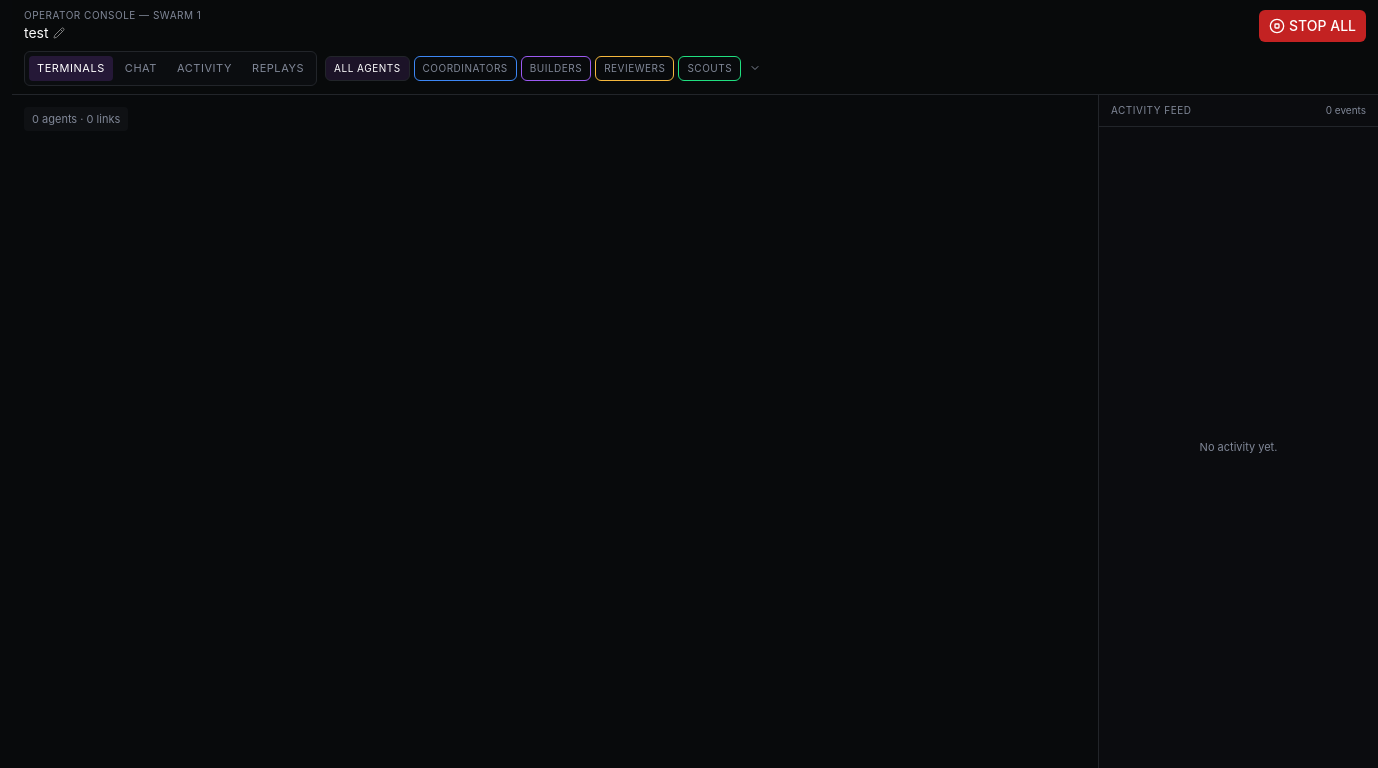
OperatorConsole — Stage-4 UX: ErrorBanner on RPC rejection › renders ErrorBanner after a mocked RPC rejection during mission rename
This screenshot has width=1378, height=768.
Click the button "test" at (44,33), box [24,23,65,43]
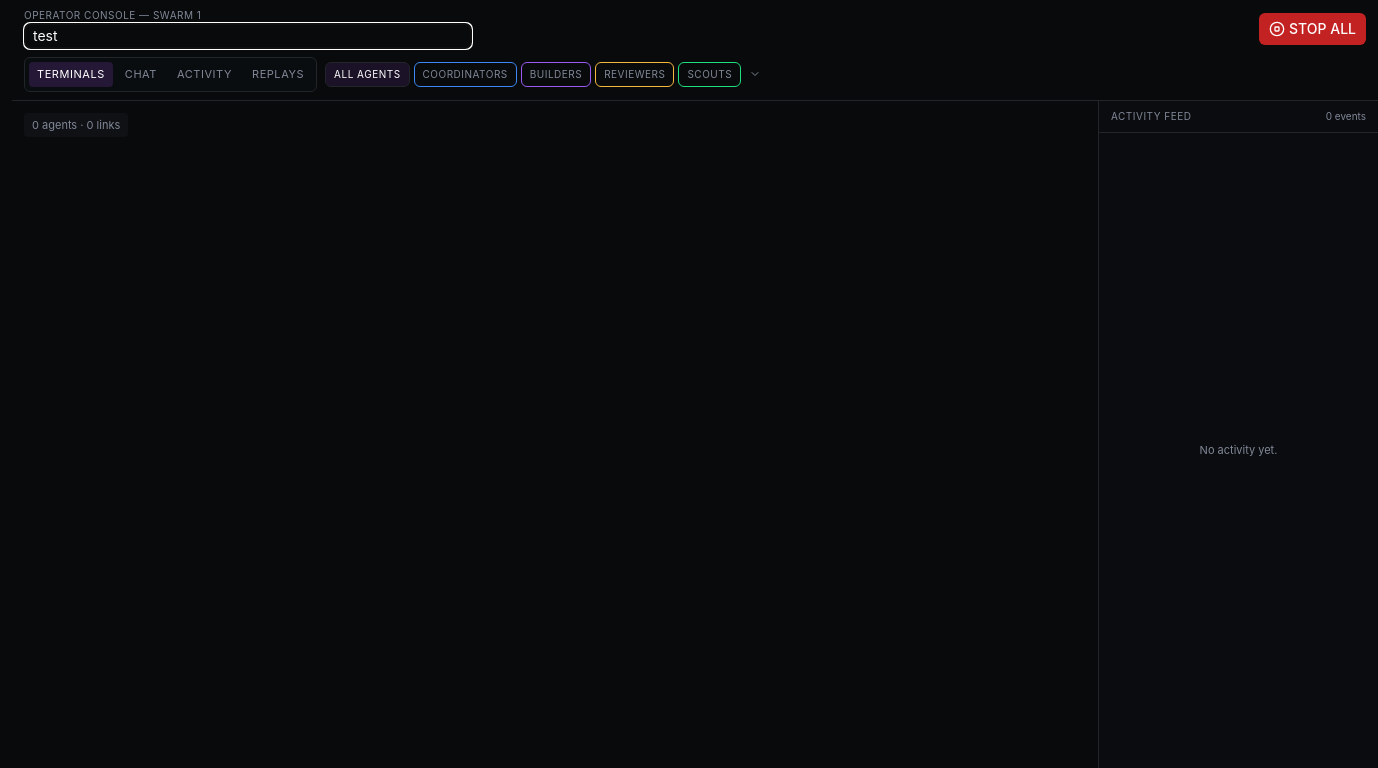
Commit rename via the input field.
Replace the text in the field with "New Mission" at (248,36), box [24,23,472,49]
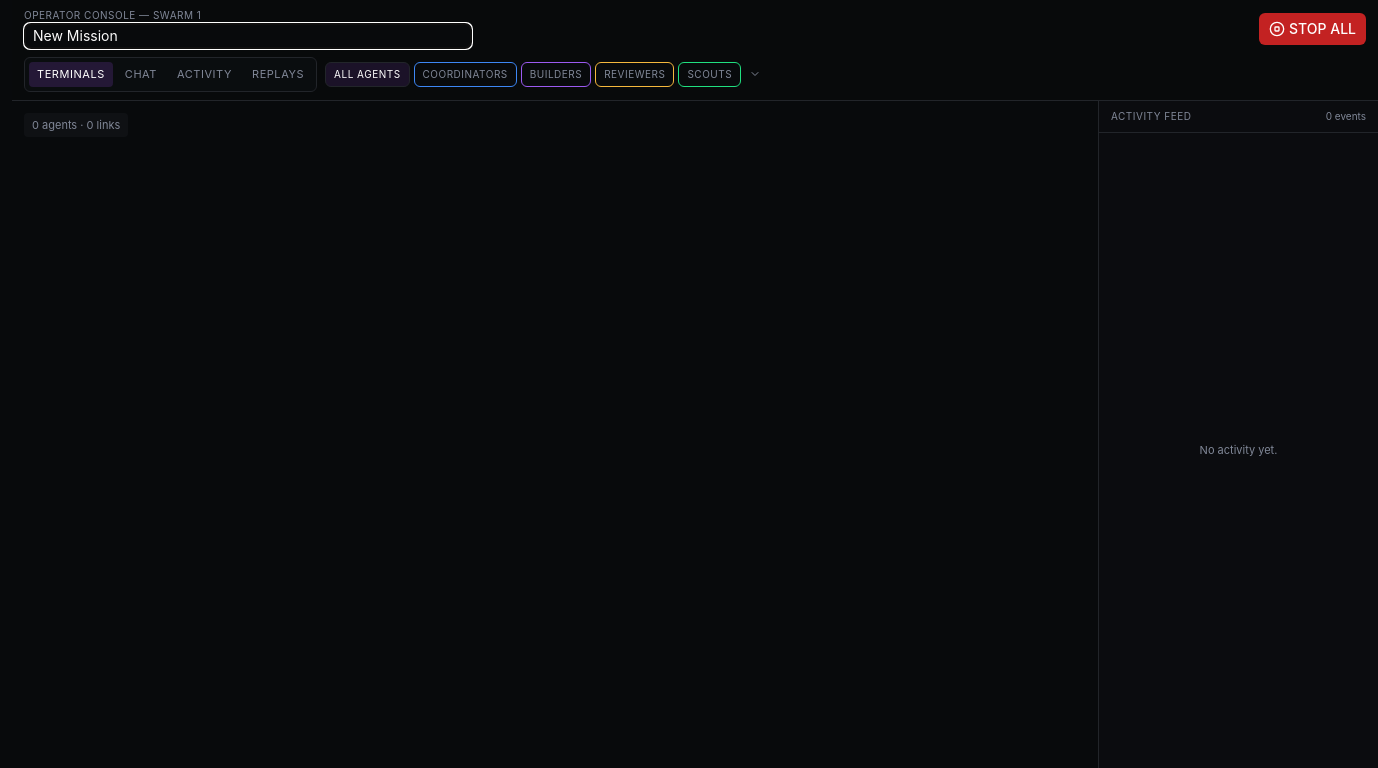
Press Enter in the field, box [24,23,472,49]
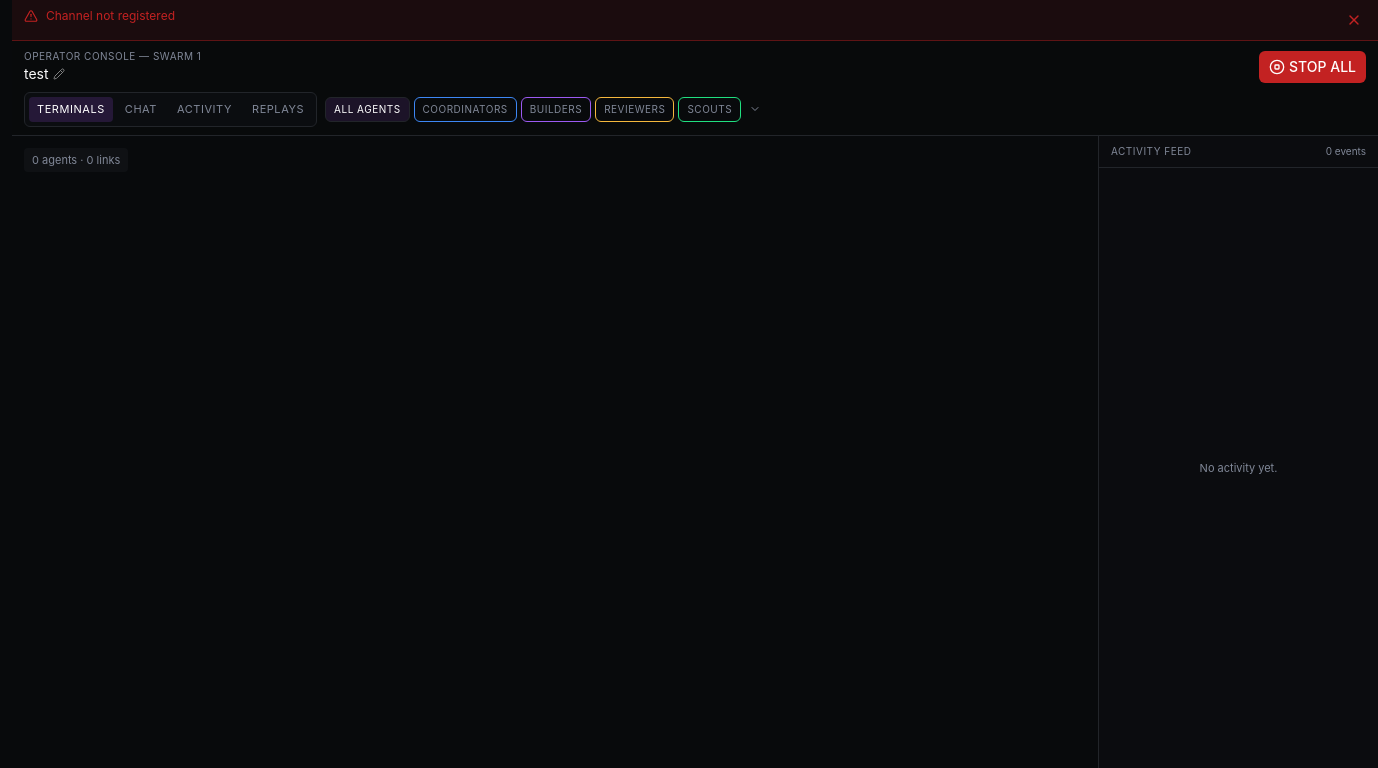
Result: the message "Channel not registered" is shown at [12,0,1377,41]
